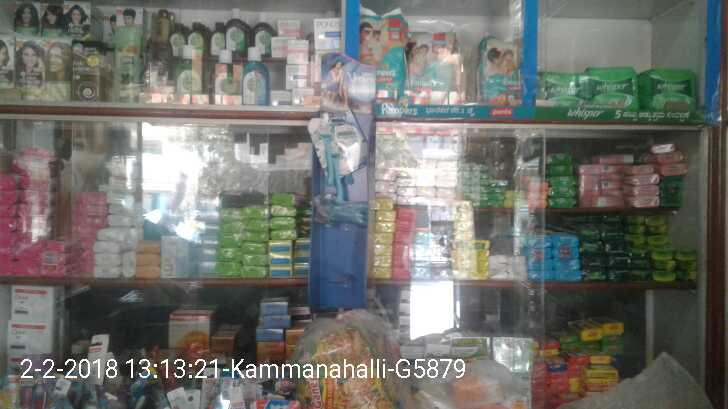pharmacy: (361, 10, 408, 102), (413, 32, 467, 111), (477, 33, 521, 106), (646, 62, 701, 112), (585, 66, 632, 112), (542, 75, 588, 108)
